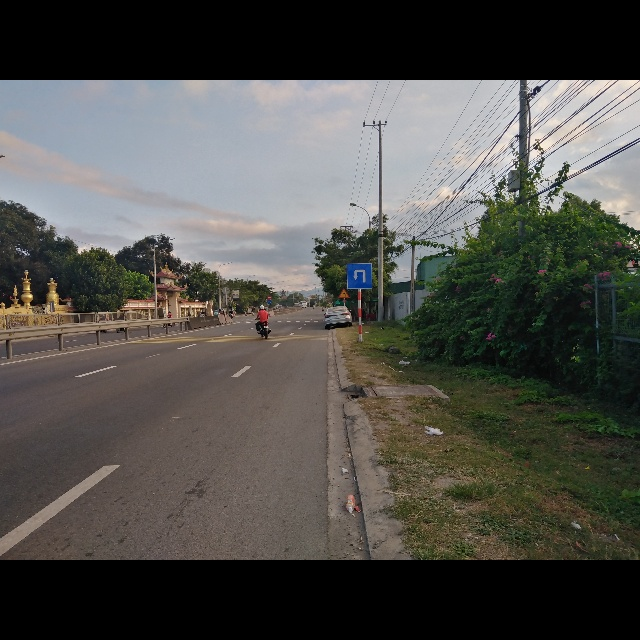Khu vực quay đầu xe: (347, 262, 374, 290)
